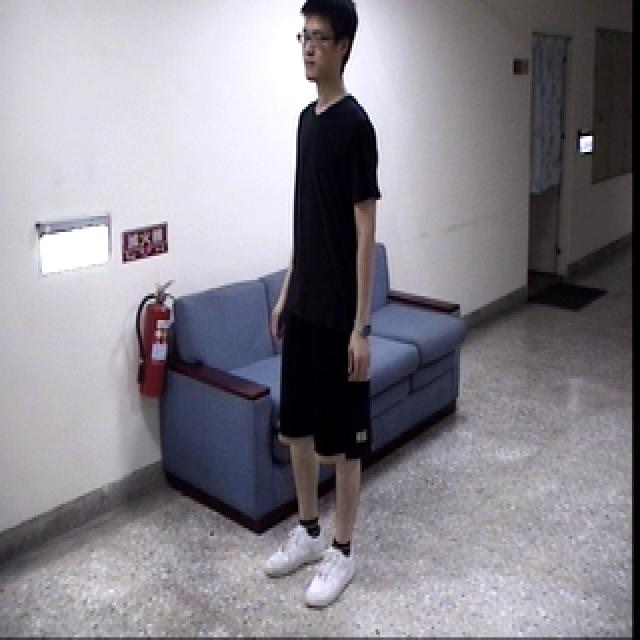stand: (260, 0, 397, 617)
